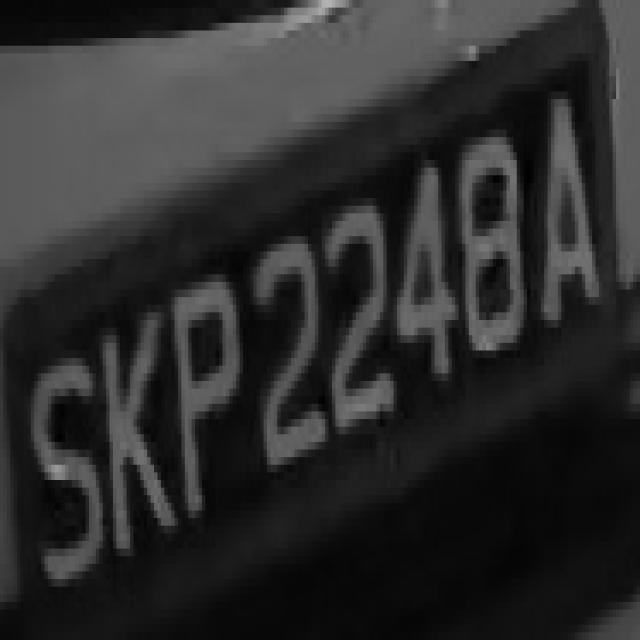2: (246, 221, 332, 503), (325, 183, 401, 442)
4: (373, 145, 459, 411)
8: (452, 114, 527, 381)
A: (524, 69, 606, 358)
K: (92, 289, 178, 586)
P: (161, 267, 246, 518)
S: (27, 320, 103, 617)
